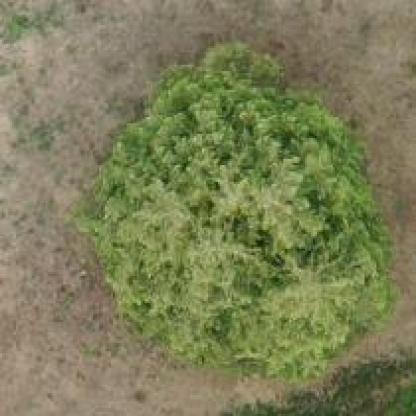Coniferous Tree: (92, 52, 391, 391)
